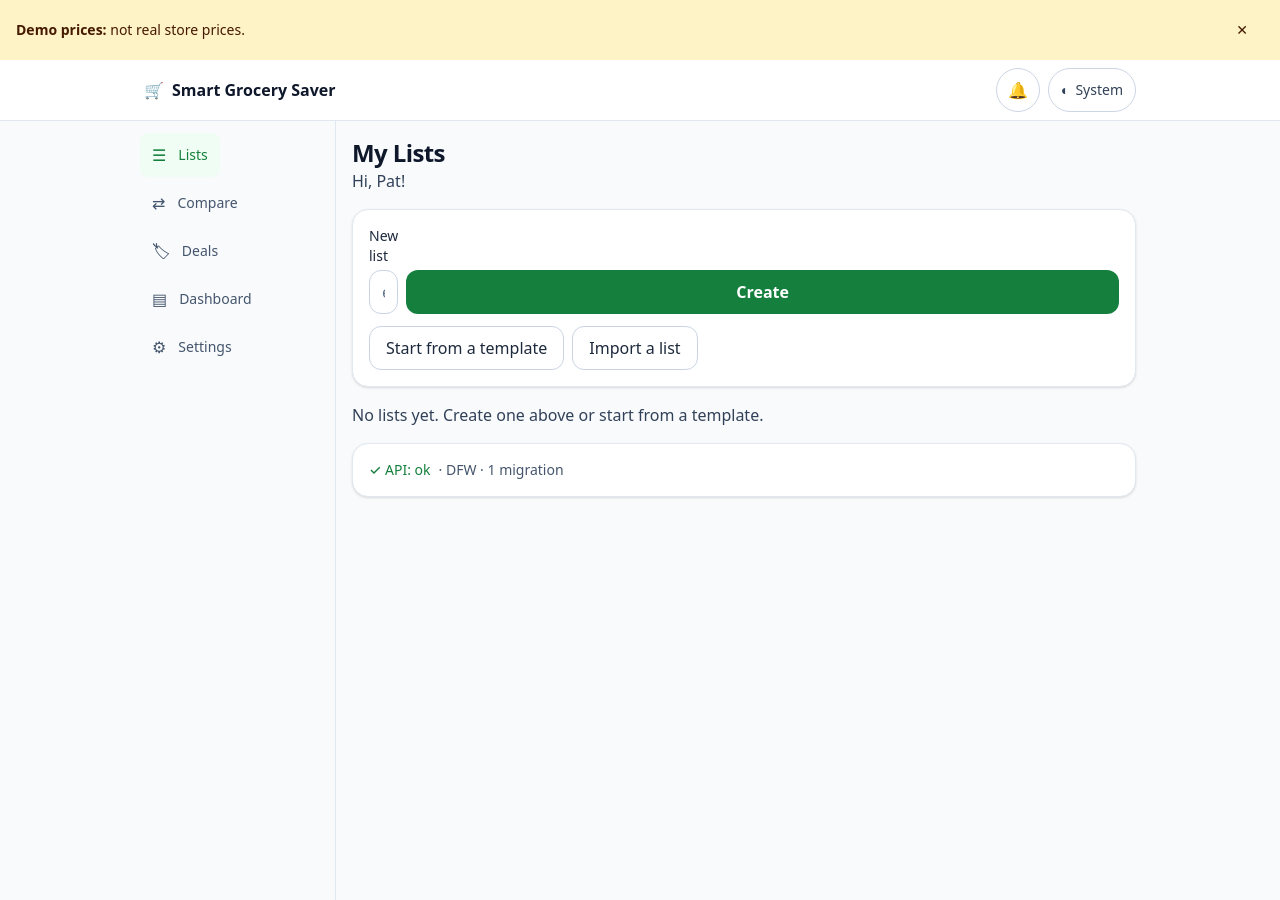
Test: App shell (signed in) › dismisses the demo banner for the session
The image size is (1280, 900).
Click the button named "Dismiss demo prices notice": (1242, 30) [1220, 8, 1264, 52]
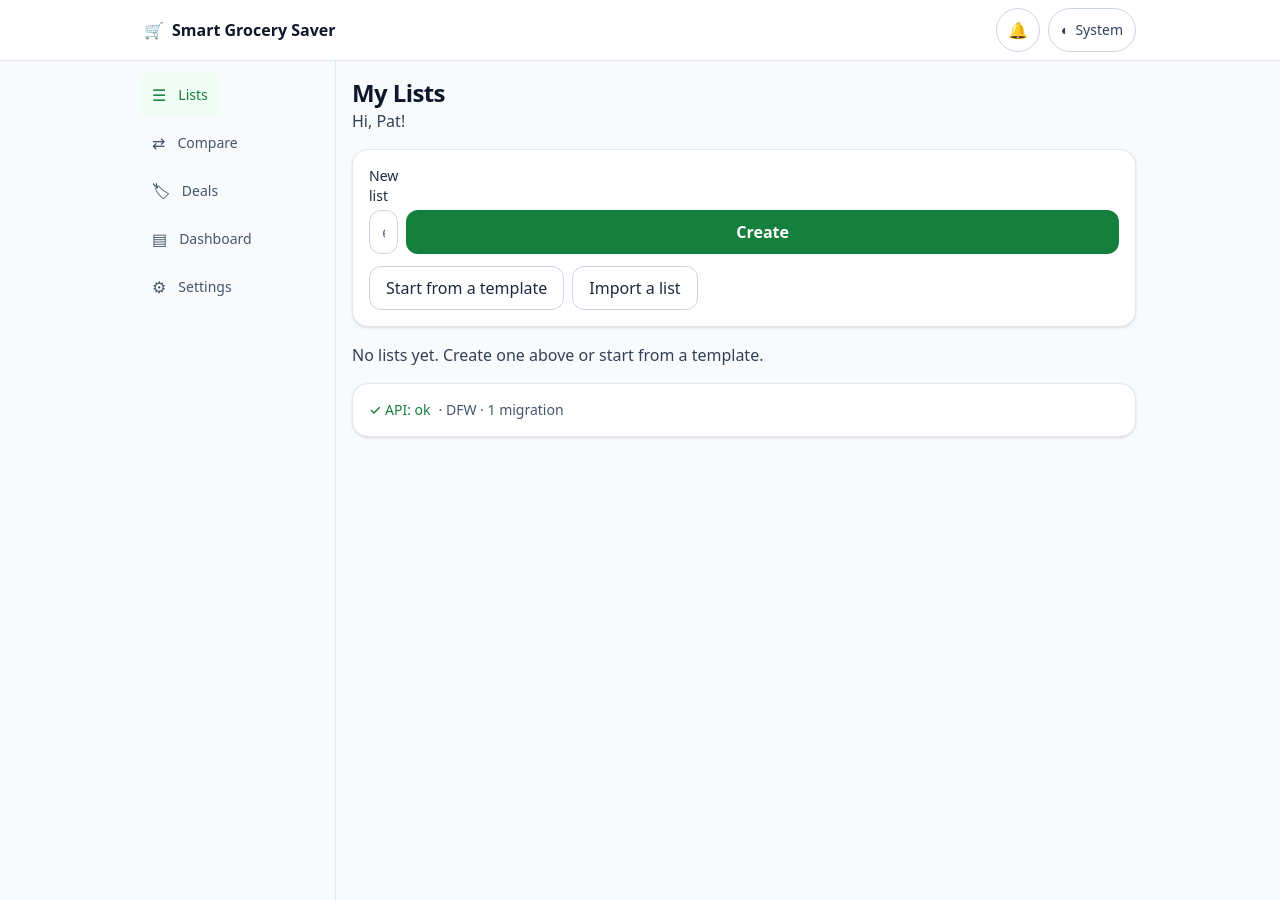
Now the text "Demo prices" is gone
